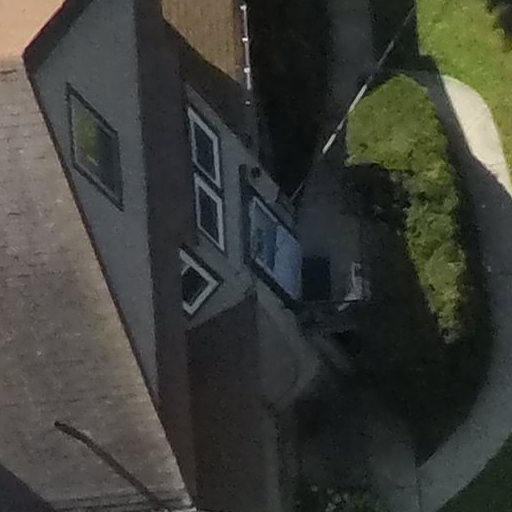gutter: (234, 3, 259, 104)
